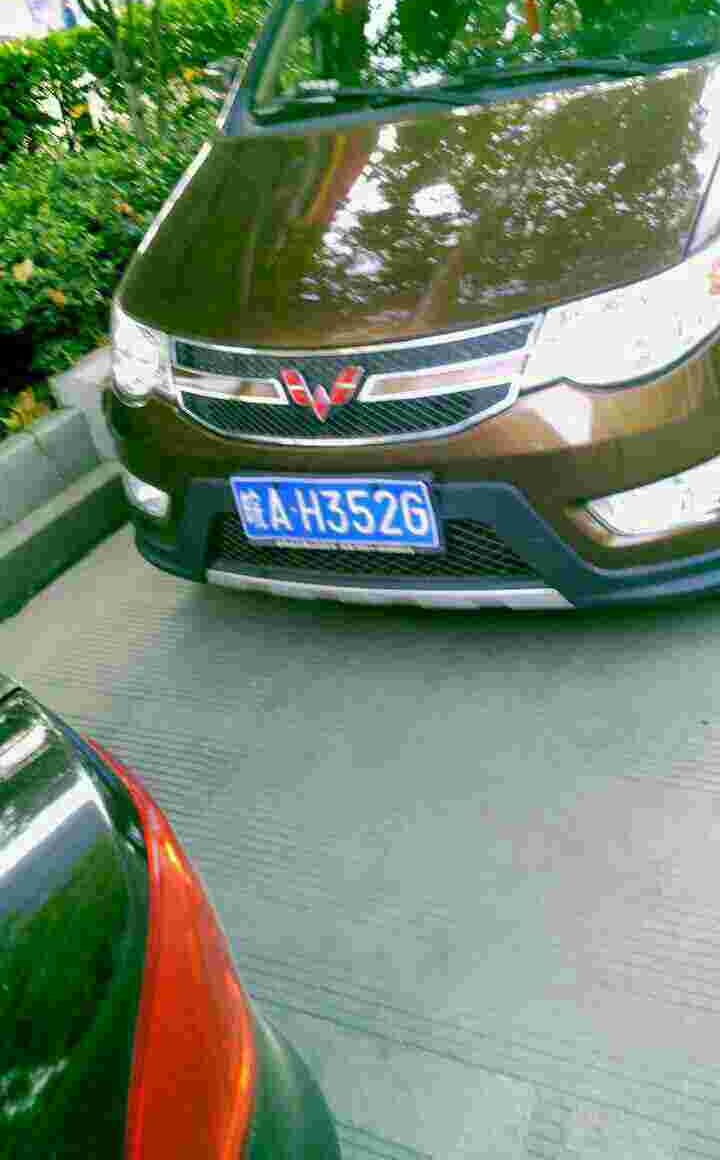license_plate: (227, 485, 446, 547)
